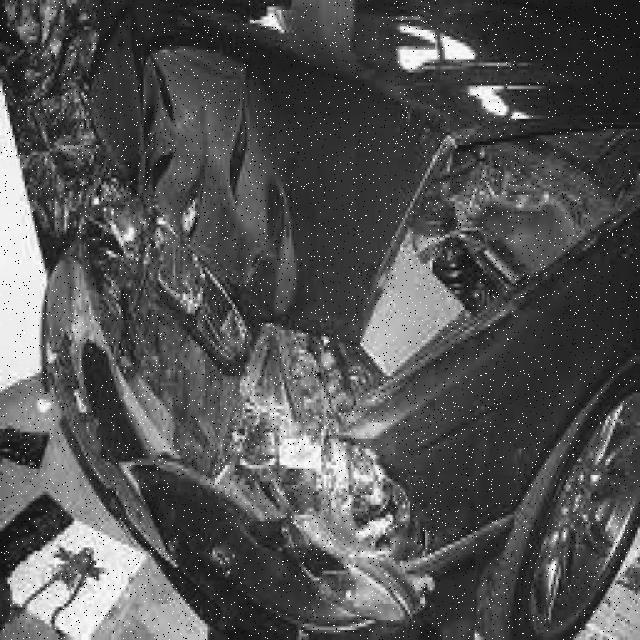car damage: (37, 19, 462, 621)
